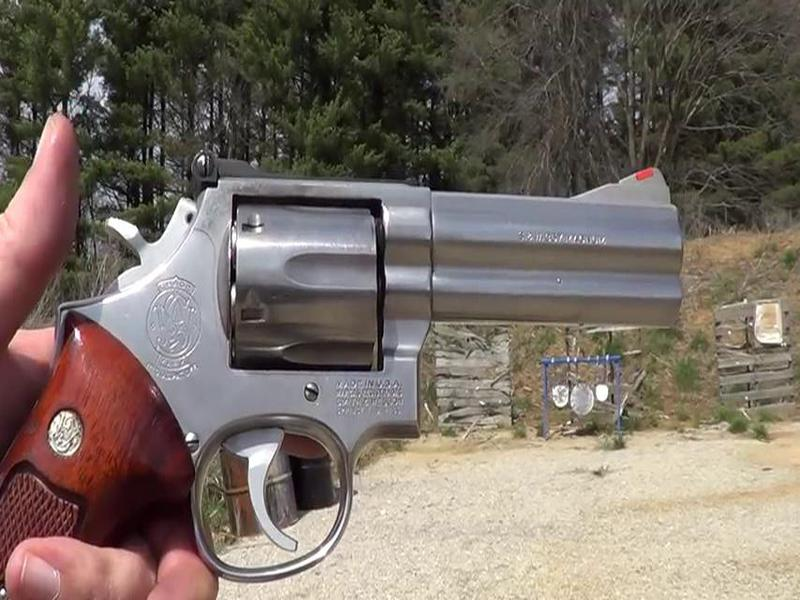Revolver: (67, 127, 690, 589)
